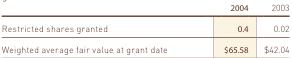table: (0, 0, 288, 54)
table column: (0, 0, 194, 54), (194, 0, 255, 54), (255, 0, 288, 54)
table column header: (0, 0, 288, 17)
table row: (0, 17, 288, 38), (0, 0, 288, 17), (0, 38, 288, 54)
